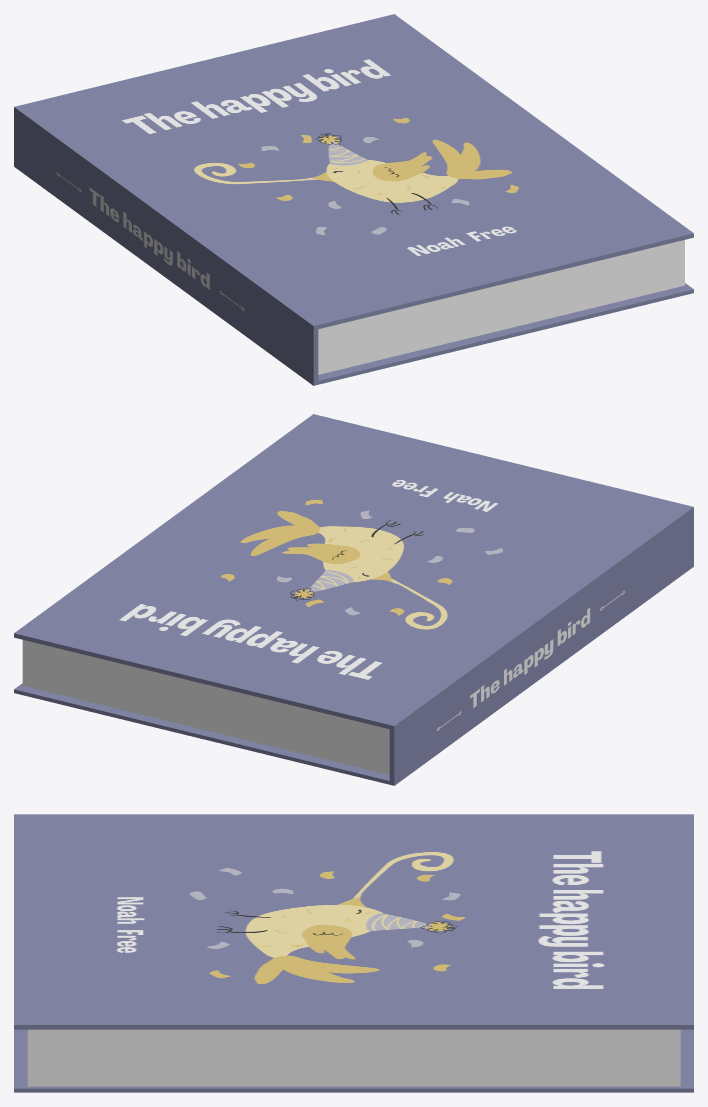
File: Book 7.fbx
3 renders of one model, top to bottom at view 1: azimuth 30°, elevation 25°; view 2: azimuth 150°, elevation 25°; view 3: azimuth 270°, elevation 25°, orthographic. The views are drawn at different scales.
Visible parts, largest first — view 1: Book 7; view 2: Book 7; view 3: Book 7.
Part boxes in pixels (left/top/right/bottom): Book 7: left=14, top=14, right=693, bottom=385; Book 7: left=14, top=414, right=693, bottom=785; Book 7: left=14, top=814, right=693, bottom=1092.
Size of the model in its own units: 15.12 by 2.27 by 20.62.
Materials: 1 (1 with a texture image).
